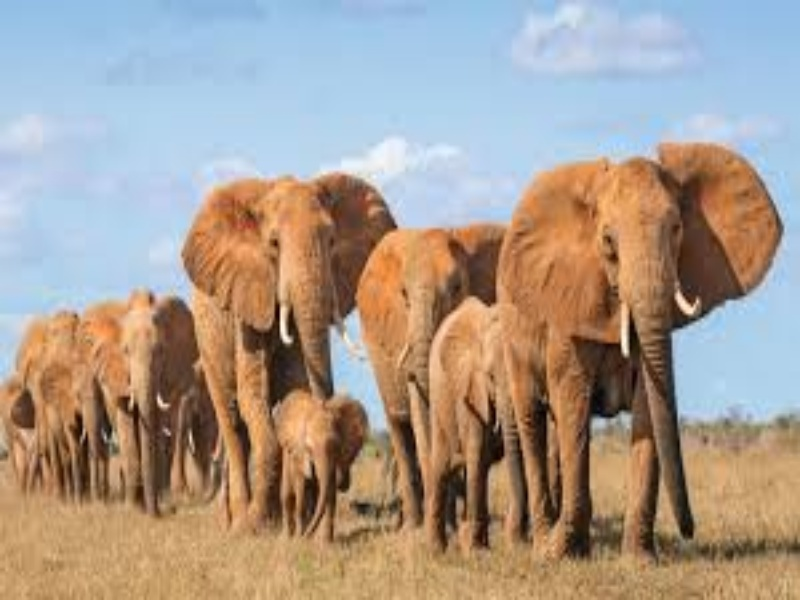elephant: (4, 112, 788, 562)
